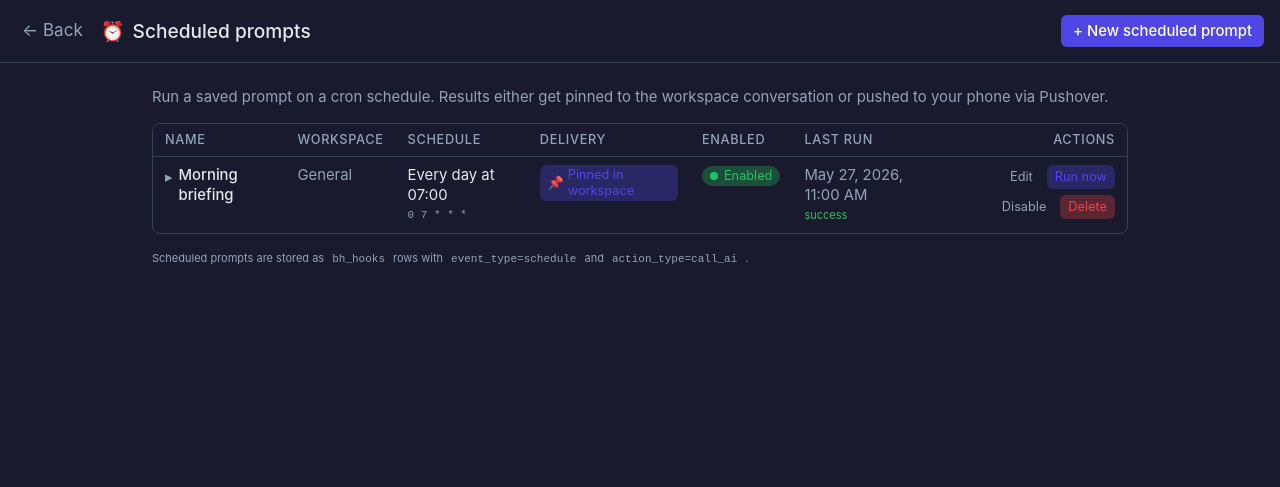
Test: ScheduledPromptsPage — expand row to show log (R11.7, R11.10) › clicking the row name fetches the last 10 log entries and renders them
Click the button "▸ Morning briefing" at [219, 184], box [165,164,273,204]
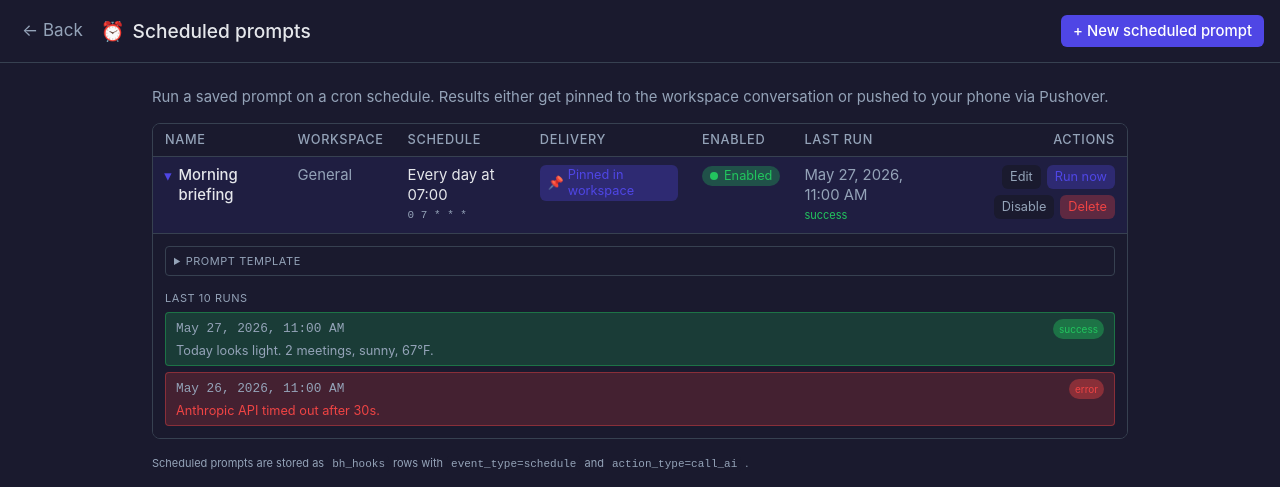
Expected: the text "Today looks light. 2 meetings, sunny, 67°F." is shown, [176,342,434,358]
Expected: the text "Anthropic API timed out after 30s." is shown, [176,402,380,418]
